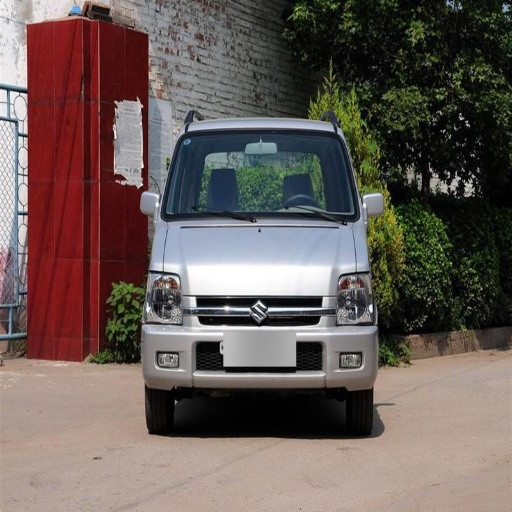front_bumper: (144, 294, 375, 388)
front_right_light: (146, 271, 184, 325)
hood: (163, 222, 354, 294)
